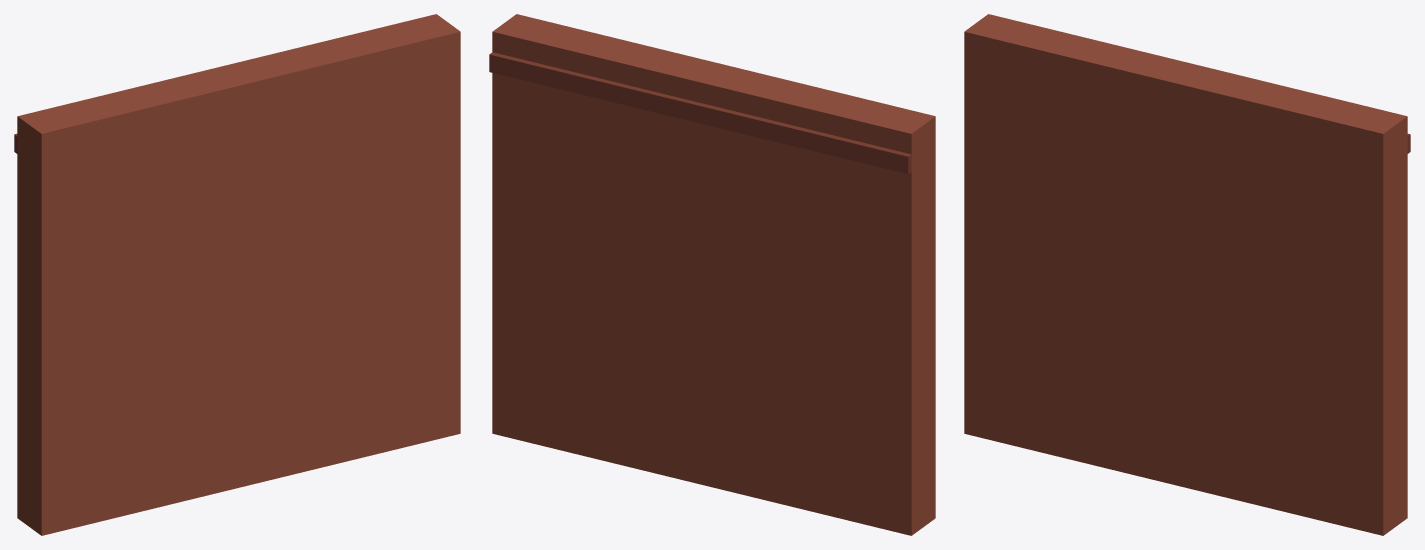
File: Kit_brick_wall.fbx
3 views of the same model, side by side, from view 1: azimuth 30°, elevation 25°; view 2: azimuth 150°, elevation 25°; view 3: azimuth 330°, elevation 25° (orthographic).
Parts seen in each view (by area): view 1: Wall; view 2: Wall, Course; view 3: Wall.
Boxes of the visible parts, x1,y1,x2,y2 form: Wall: (17,14,460,535); Wall: (492,14,935,535); Course: (489,52,911,174); Wall: (964,14,1407,535).
Bounding box in the file's own units: 300 × 34 × 275.
